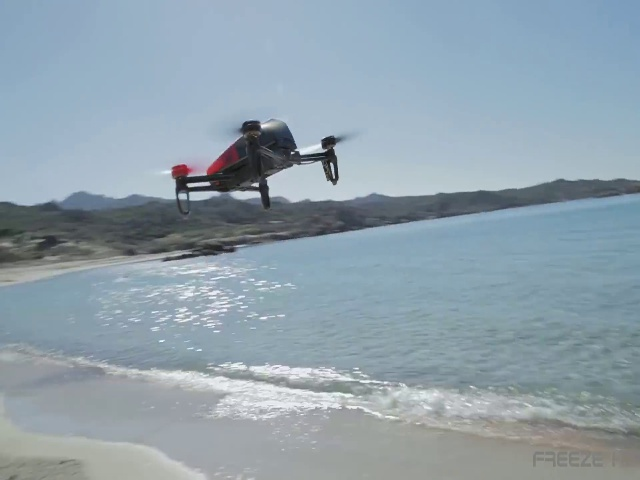drone: (145, 108, 365, 220)
